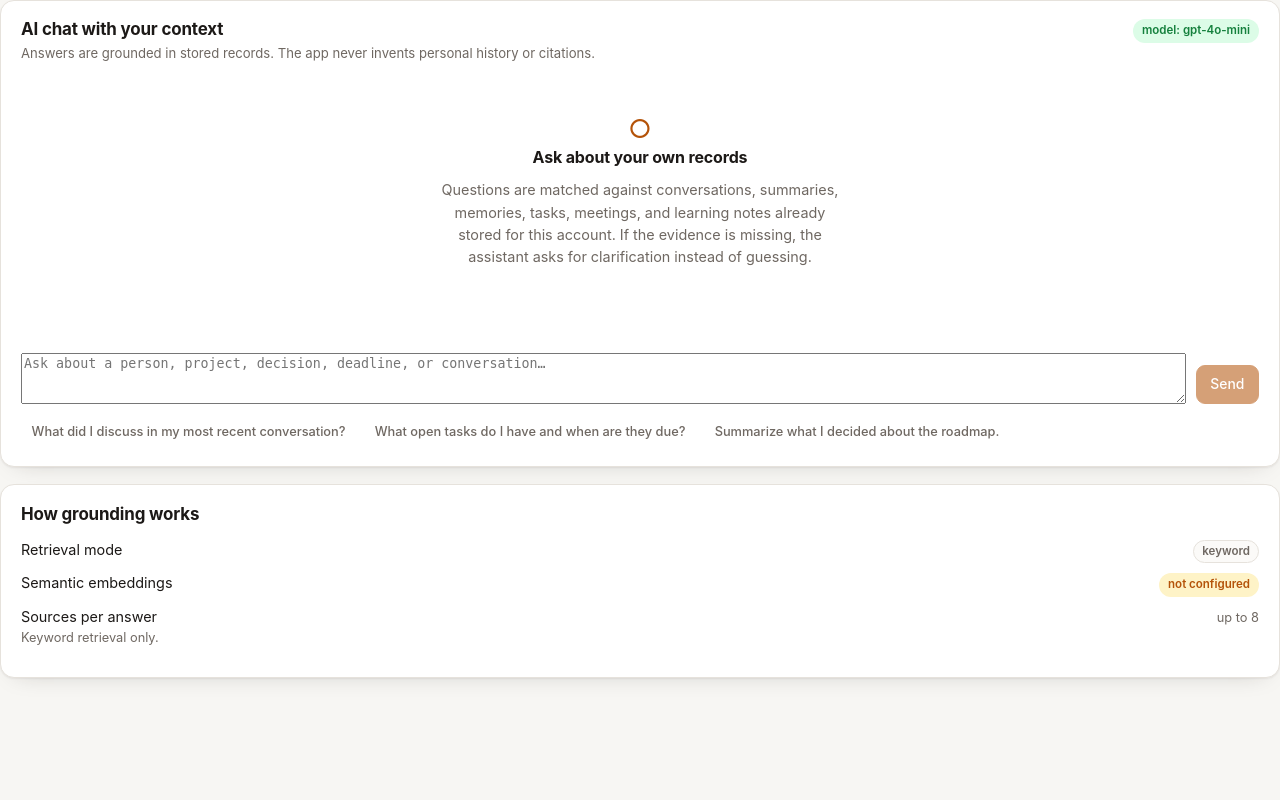
Scenario: AI chat page › shows the provider and generates a cited answer
Check: the text "model: gpt-4o-mini" is shown, box [1133,19,1259,43]
Step 1. Type "What did we decide about the roadmap?" into the text box named "ask a question about your records" → [603, 378], box [21,353,1186,404]
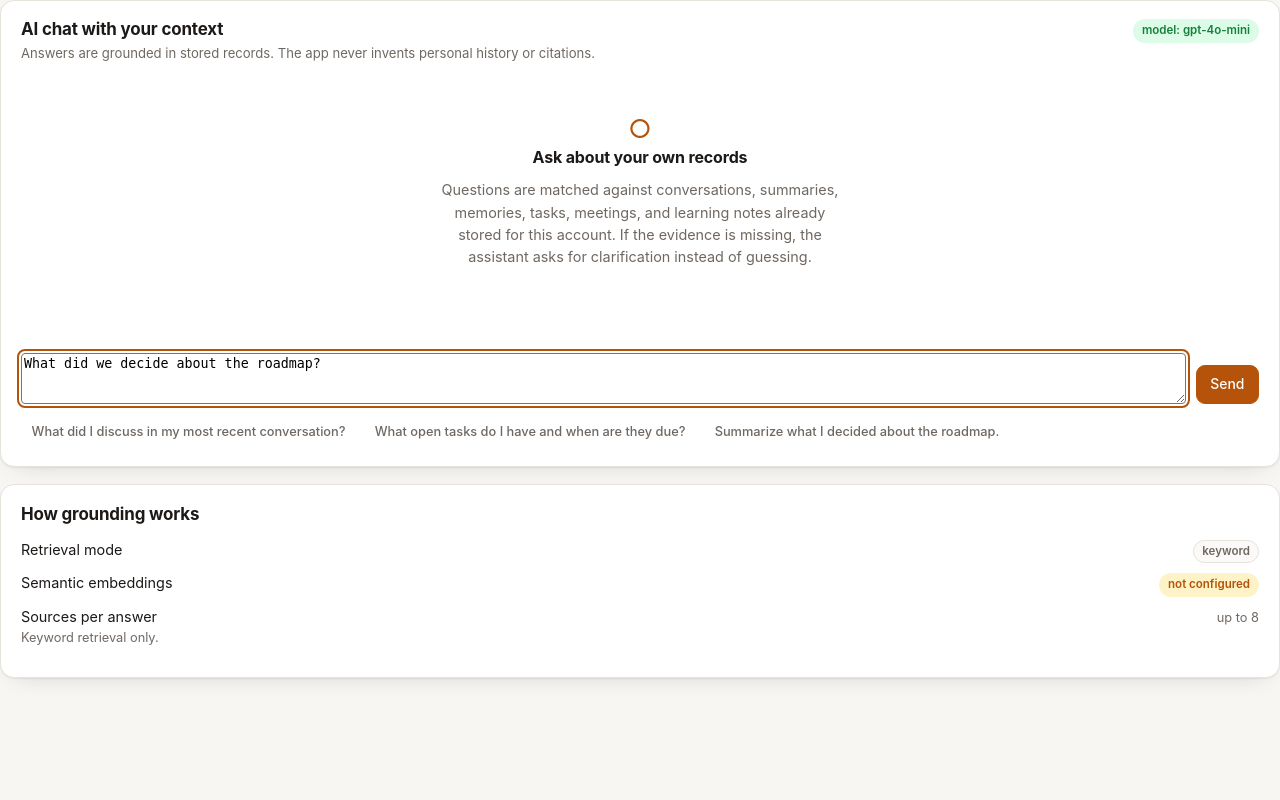
Step 2. Click the button "Send" → [1227, 384], box [1196,365,1259,404]
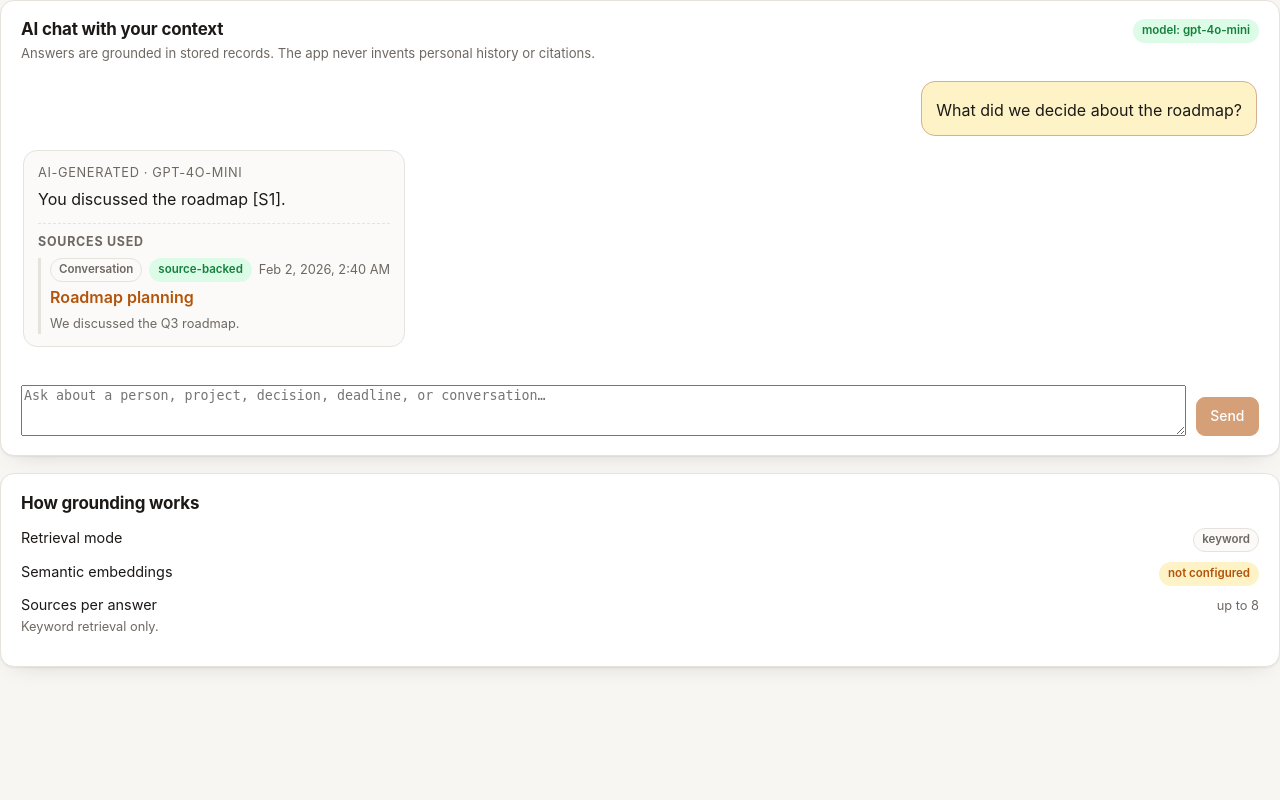
Check: the text "You discussed the roadmap [S1]." is shown, box [38,188,286,208]
Check: the link "Roadmap planning" is shown, box [50,285,194,309]
Check: the heading "Sources used" is shown, box [38,234,144,249]
